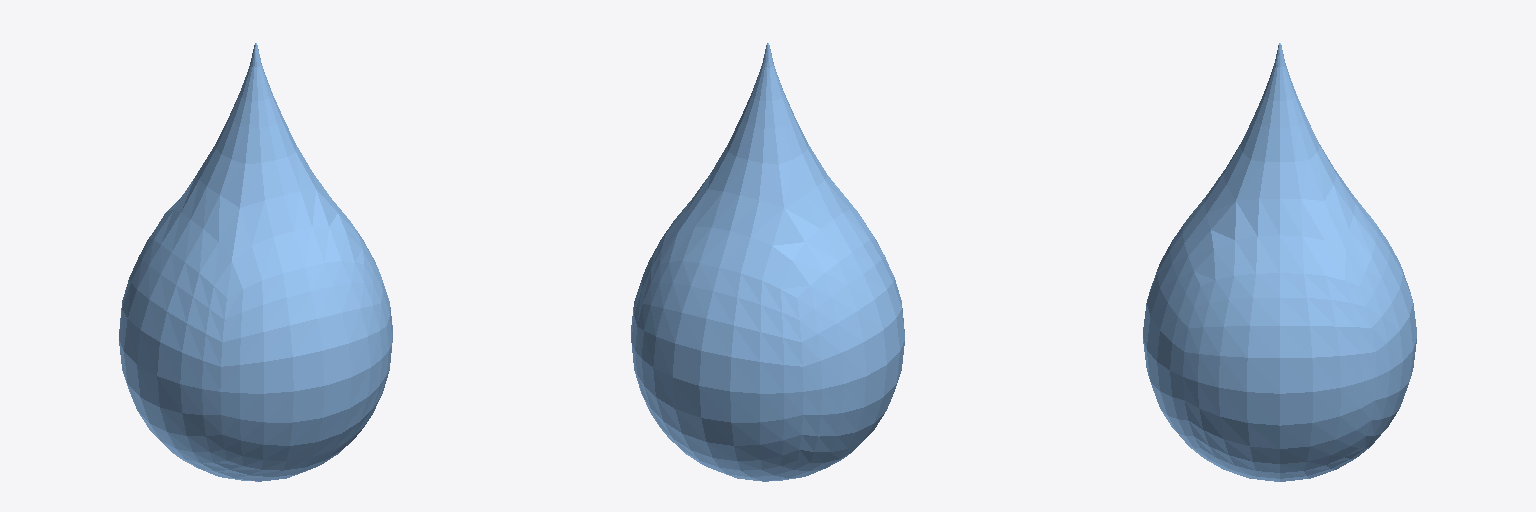
3 views of the same model, side by side, from view 1: azimuth 30°, elevation 25°; view 2: azimuth 150°, elevation 25°; view 3: azimuth 270°, elevation 25° (orthographic).
Parts seen in each view (by area): view 1: Drops; view 2: Drops; view 3: Drops.
Boxes of the visible parts, box(x1,y1,x2,y2) form: Drops: box(119, 43, 392, 481); Drops: box(631, 43, 904, 481); Drops: box(1143, 43, 1416, 481).
Size of the model in its own units: 0.2183 by 0.3739 by 0.2183.
Materials: 1 (1 with a texture image).